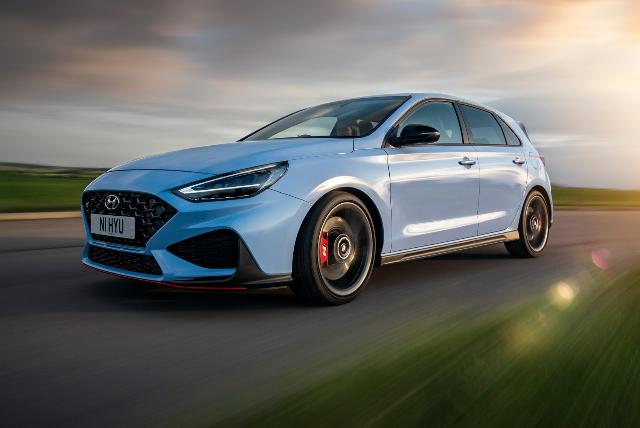hyundai: (80, 91, 554, 304)
